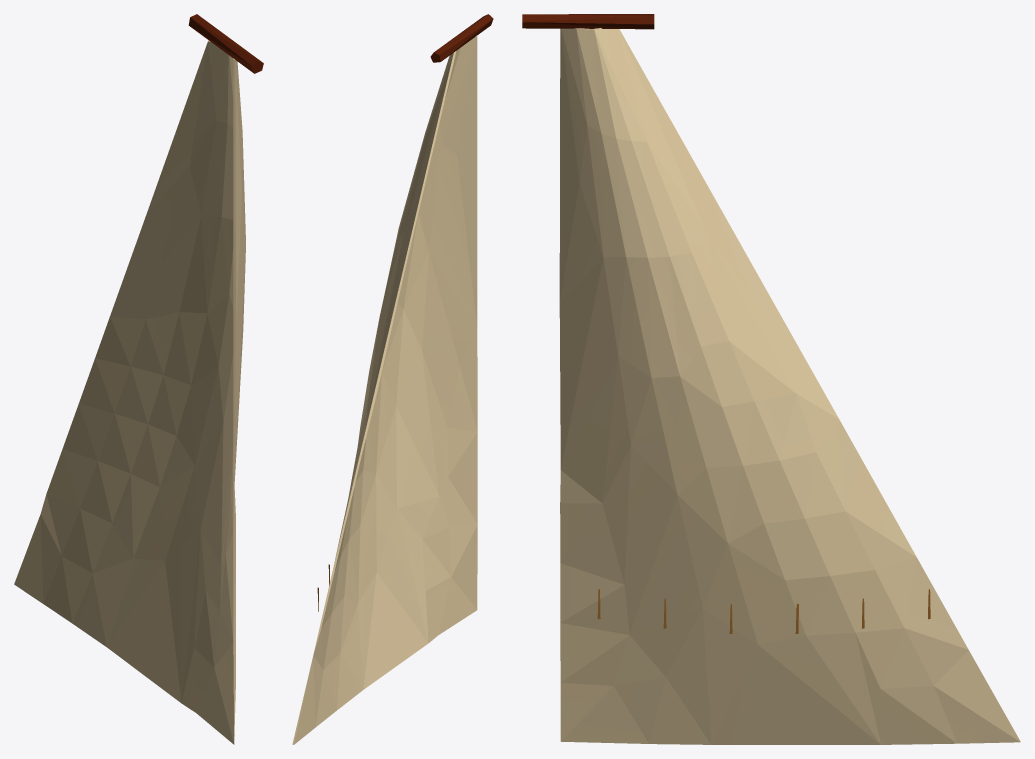
The model's file is upgrade_canvas_mainsail.three-web-toon.lod50.glb.
3 views of the same model, side by side, from view 1: azimuth 30°, elevation 25°; view 2: azimuth 150°, elevation 25°; view 3: azimuth 270°, elevation 25° (orthographic). The views are drawn at different scales.
Visible parts, largest first — view 1: upgrade_canvas_mainsail_mesh_lod; view 2: upgrade_canvas_mainsail_mesh_lod; view 3: upgrade_canvas_mainsail_mesh_lod.
Part boxes in pixels (<box>): upgrade_canvas_mainsail_mesh_lod: <box>14,14,263,744</box>; upgrade_canvas_mainsail_mesh_lod: <box>292,14,493,744</box>; upgrade_canvas_mainsail_mesh_lod: <box>522,14,1020,744</box>.
Size of the model in its own units: 0.5801 by 7.32 by 4.53.
